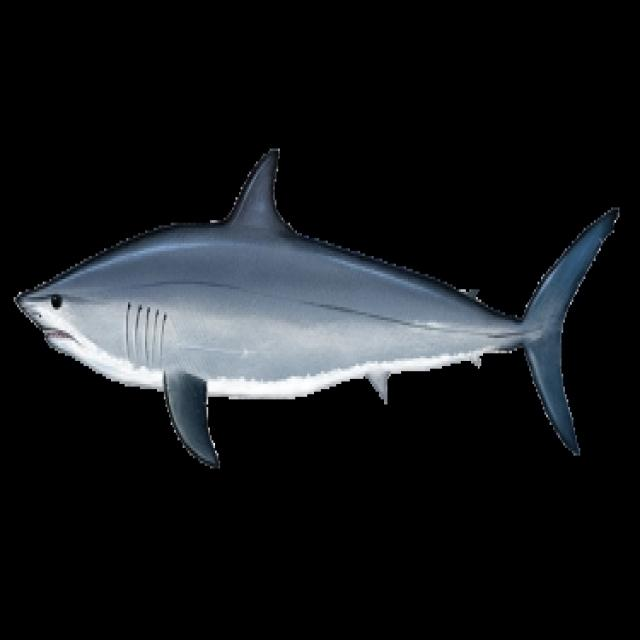gaviota: (14, 148, 618, 466)
